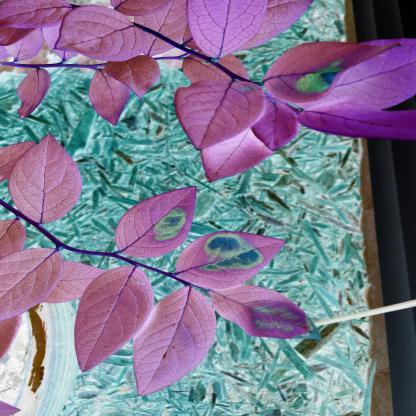Blueberry leaf: (128, 280, 222, 404), (75, 258, 153, 392), (176, 66, 270, 161), (49, 4, 150, 68), (296, 96, 416, 149), (84, 55, 169, 127), (11, 126, 72, 226), (0, 242, 72, 324), (192, 0, 264, 68), (14, 61, 51, 123)
